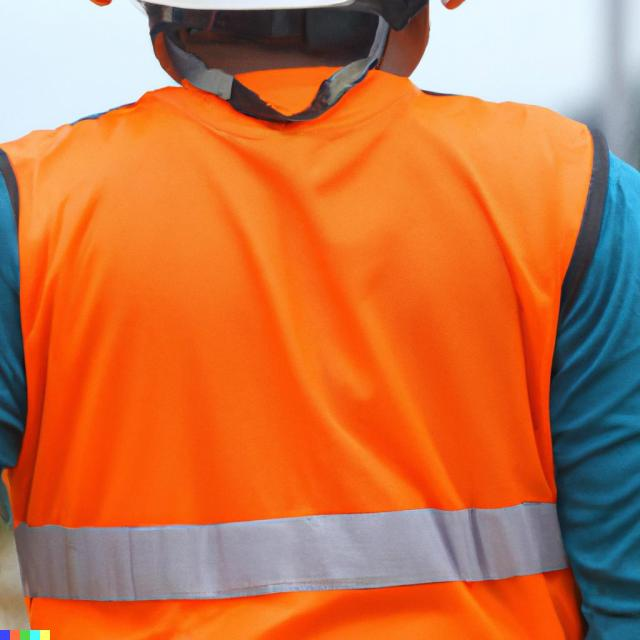Reflective-Jacket: (2, 54, 614, 630)
